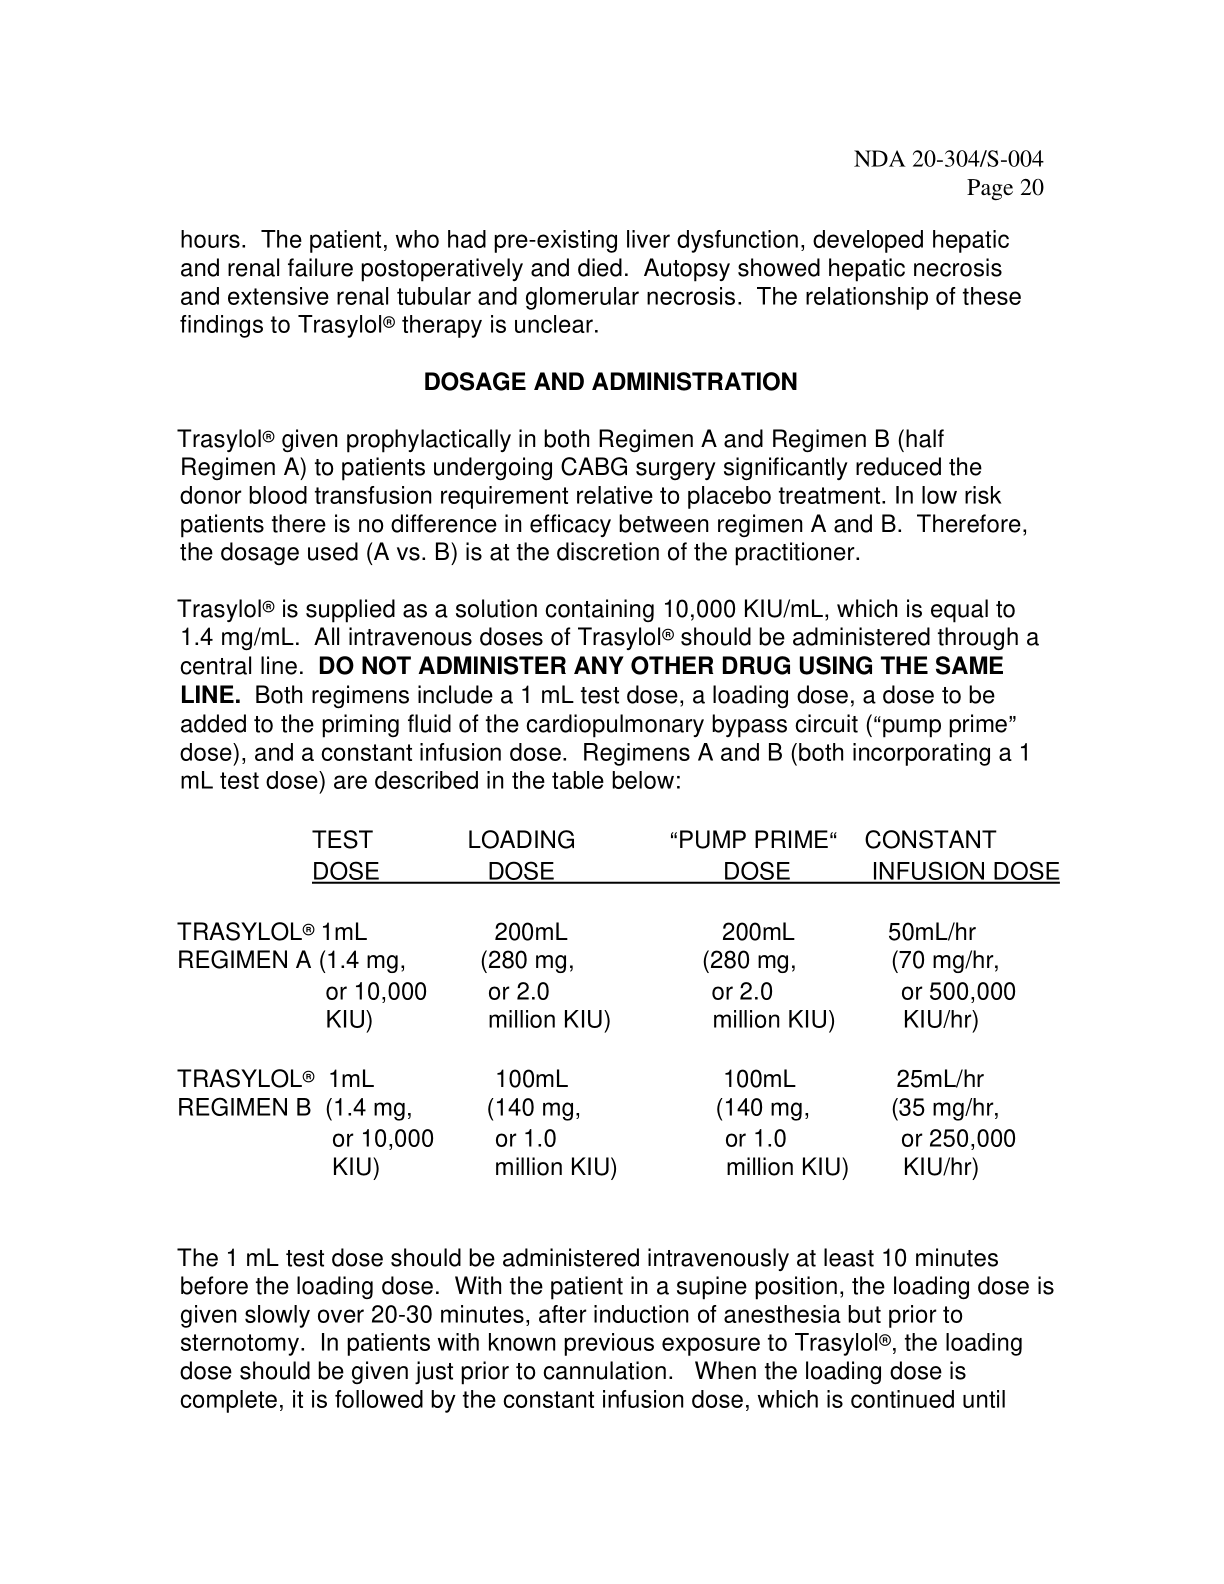partial_lined: (177, 828, 1061, 1182)
